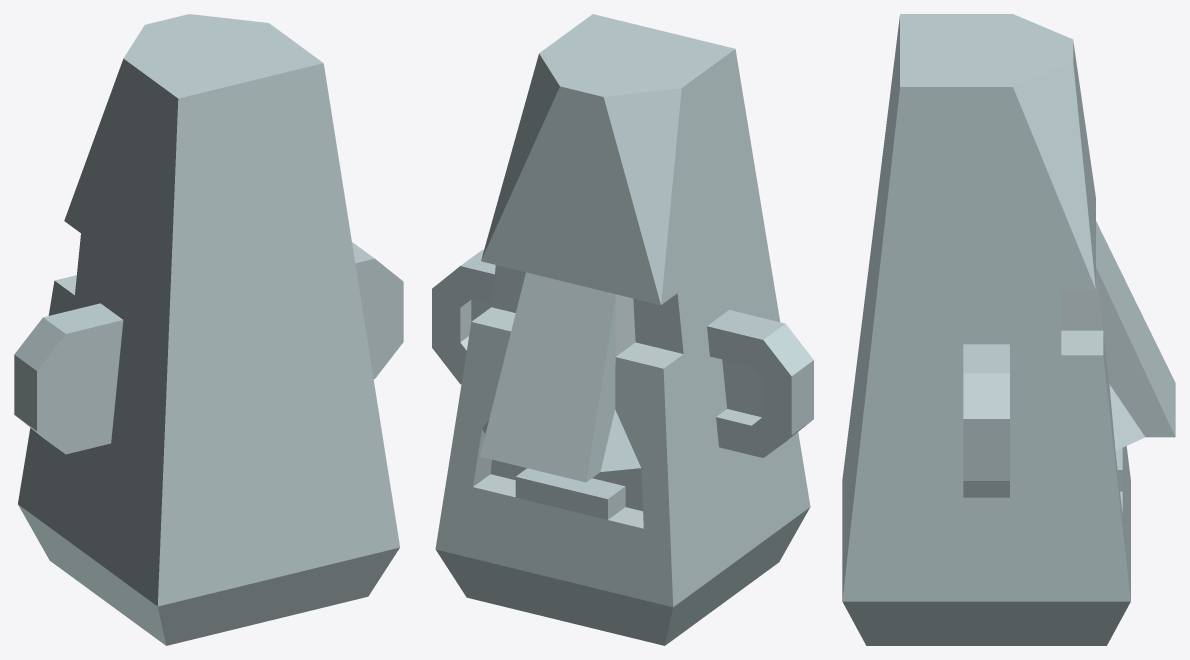
The model's file is statue_head.glb.
The picture shows the model from 3 angles, left to right: view 1: azimuth 30°, elevation 25°; view 2: azimuth 150°, elevation 25°; view 3: azimuth 270°, elevation 25°; orthographic projection. The views are drawn at different scales.
Parts seen in each view (by area): view 1: statue_head; view 2: statue_head; view 3: statue_head.
Boxes of the visible parts, bbox=[...] form: statue_head: bbox=[14, 14, 403, 645]; statue_head: bbox=[432, 14, 813, 645]; statue_head: bbox=[842, 14, 1175, 645].
Bounding box in the file's own units: 0.726 × 1 × 0.5544.
